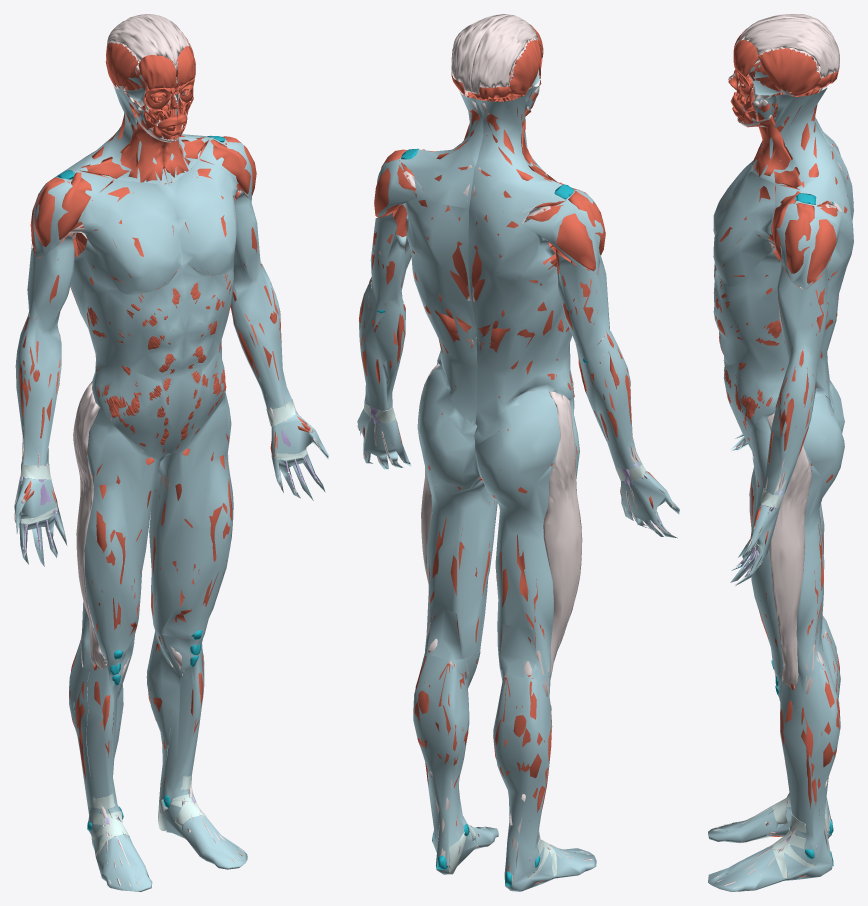
The model's file is muscular.glb.
3 views of the same model, side by side, from view 1: azimuth 30°, elevation 25°; view 2: azimuth 150°, elevation 25°; view 3: azimuth 270°, elevation 25° (orthographic). The views are drawn at different scales.
Visible parts, largest first — view 1: Superficial investing cervical fascia.l, External abdominal oblique muscle.l, Rectus abdominis muscle.l, Flexor retinaculum of ankle.l, (Iliopectineal bursa).l, Tendon sheath of extensor digitorum longus.l; view 2: Superficial investing cervical fascia.l, External abdominal oblique muscle.l, Rectus abdominis muscle.l, Flexor retinaculum of ankle.l, (Iliopectineal bursa).l; view 3: Superficial investing cervical fascia.l, External abdominal oblique muscle.l, Rectus abdominis muscle.l, Flexor retinaculum of ankle.l, (Iliopectineal bursa).l.
Boxes of the visible parts, bbox=[...] form: Superficial investing cervical fascia.l: bbox=[14, 64, 328, 891]; External abdominal oblique muscle.l: bbox=[16, 32, 310, 844]; Rectus abdominis muscle.l: bbox=[14, 14, 321, 886]; Flexor retinaculum of ankle.l: bbox=[20, 390, 317, 857]; (Iliopectineal bursa).l: bbox=[57, 135, 225, 830]; Tendon sheath of extensor digitorum longus.l: bbox=[19, 411, 318, 834]; Superficial investing cervical fascia.l: bbox=[357, 50, 679, 891]; External abdominal oblique muscle.l: bbox=[359, 24, 656, 883]; Rectus abdominis muscle.l: bbox=[357, 14, 674, 884]; Flexor retinaculum of ankle.l: bbox=[364, 399, 667, 887]; (Iliopectineal bursa).l: bbox=[377, 148, 588, 886]; Superficial investing cervical fascia.l: bbox=[708, 58, 853, 891]; External abdominal oblique muscle.l: bbox=[714, 28, 853, 877]; Rectus abdominis muscle.l: bbox=[714, 14, 843, 888]; Flexor retinaculum of ankle.l: bbox=[743, 488, 827, 878]; (Iliopectineal bursa).l: bbox=[771, 193, 834, 865].
Bounding box in the file's own units: 0.6662 × 1.7 × 0.2671.
